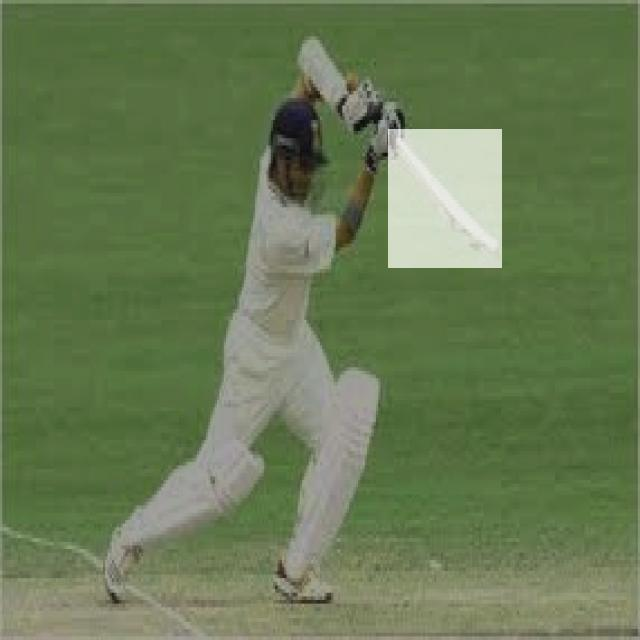bat: (389, 128, 504, 270)
toe: (481, 240, 503, 265)
